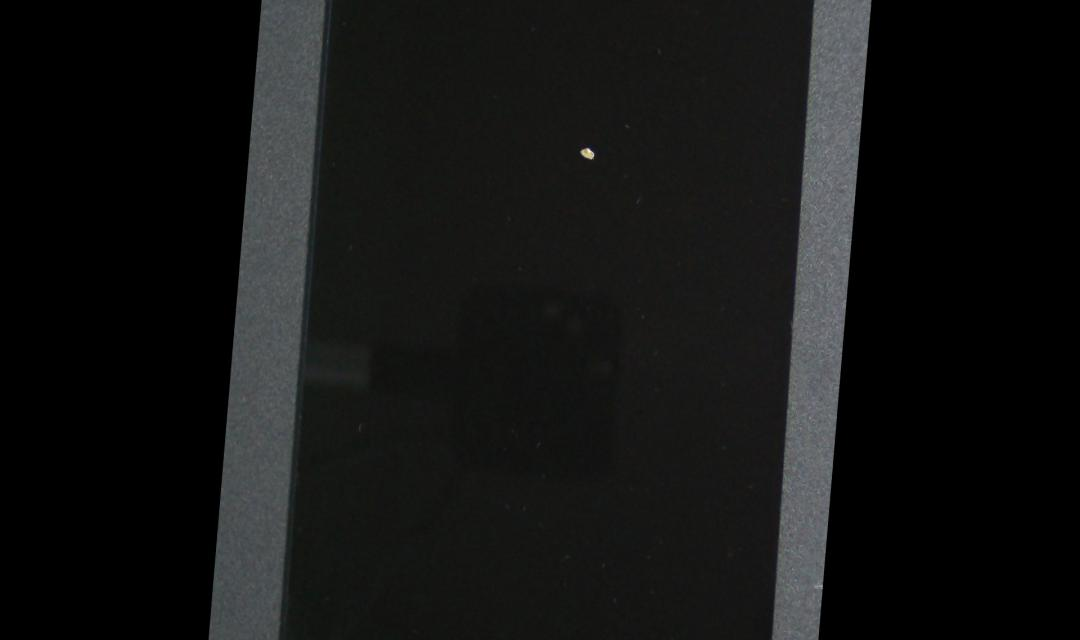Scratches: (574, 133, 610, 176)
